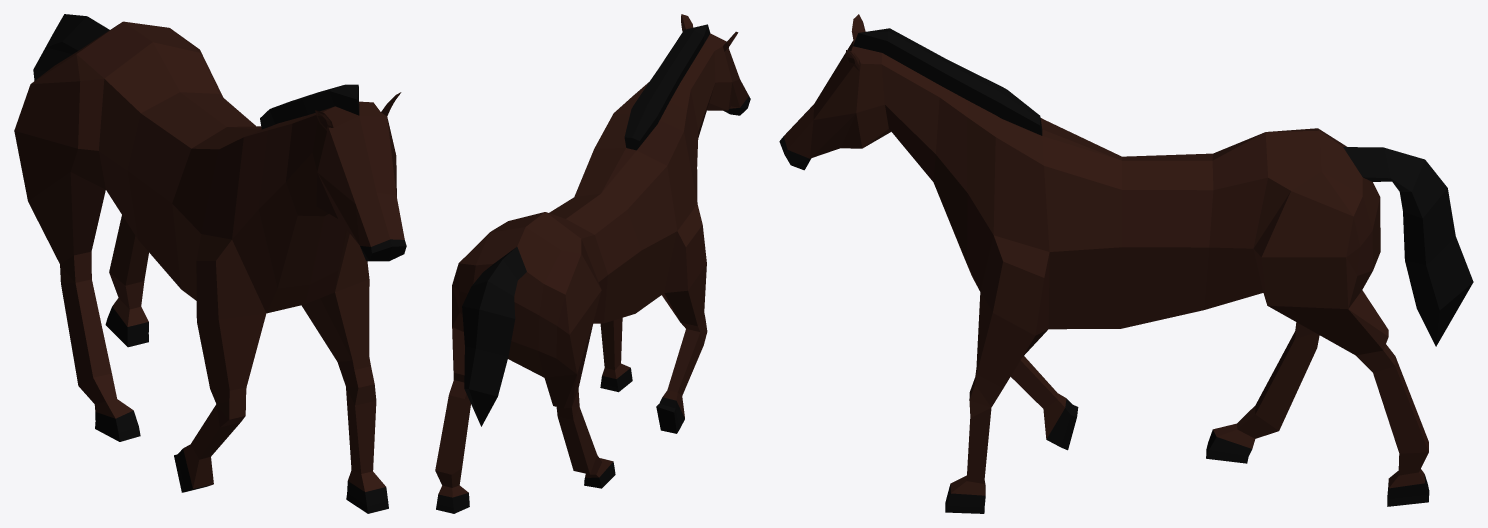
Rendered from Horse_000006.obj.
The picture shows the model from 3 angles, left to right: view 1: azimuth 30°, elevation 25°; view 2: azimuth 150°, elevation 25°; view 3: azimuth 270°, elevation 25°; orthographic projection. The views are drawn at different scales.
Visible parts, largest first — view 1: Horse_Cylinder; view 2: Horse_Cylinder; view 3: Horse_Cylinder.
Boxes of the visible parts, left/top/right/bottom form: Horse_Cylinder: left=14, top=14, right=406, bottom=513; Horse_Cylinder: left=435, top=14, right=750, bottom=513; Horse_Cylinder: left=779, top=14, right=1473, bottom=513.
Bounding box in the file's own units: 2.56 × 6.75 × 9.44.
